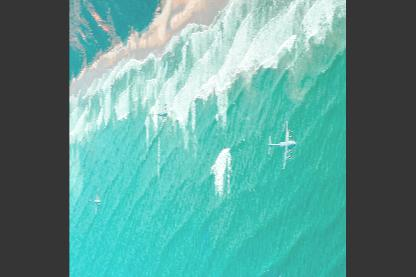C2: (268, 120, 295, 168), (152, 96, 168, 128), (89, 188, 100, 213)
